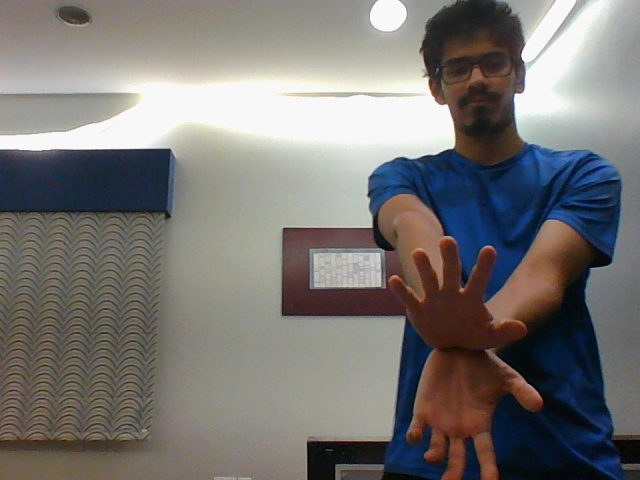blast: (381, 234, 547, 478)
